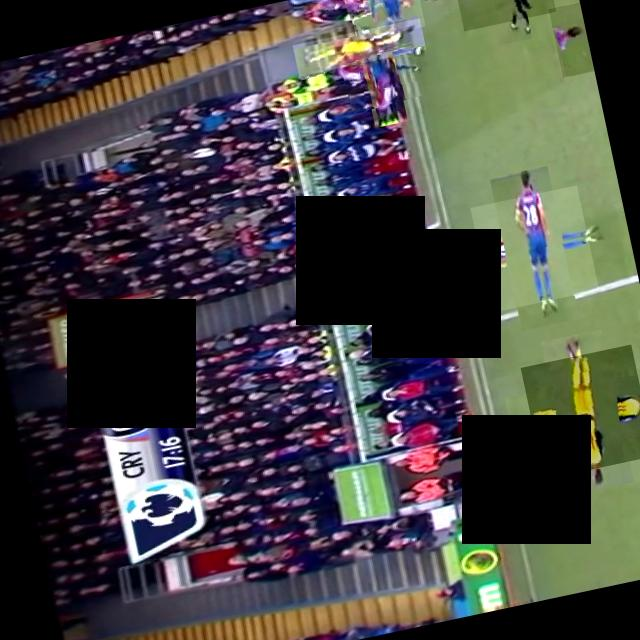referee: (449, 0, 555, 31)
soccer-player: (469, 185, 598, 312), (519, 344, 640, 479), (333, 23, 423, 114), (291, 18, 425, 76), (547, 2, 594, 78), (340, 0, 424, 41)
